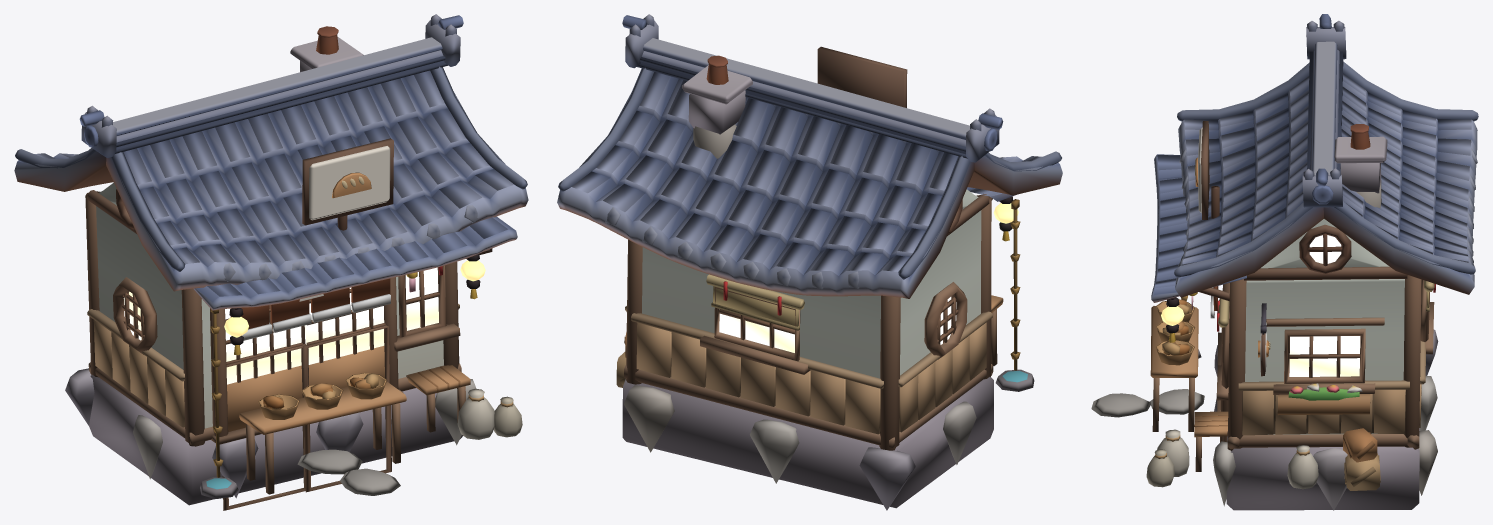
Rendered from shop-2-v4.glb.
3 views of the same model, side by side, from view 1: azimuth 30°, elevation 25°; view 2: azimuth 150°, elevation 25°; view 3: azimuth 270°, elevation 25° (orthographic). The views are drawn at different scales.
Parts seen in each view (by area): view 1: shop-2-v4, window_glow; view 2: shop-2-v4, window_glow; view 3: shop-2-v4, window_glow.
Part boxes in pixels (left/top/right/bottom): shop-2-v4: left=14, top=14, right=528, bottom=510; window_glow: left=123, top=260, right=485, bottom=384; shop-2-v4: left=557, top=14, right=1062, bottom=510; window_glow: left=719, top=203, right=1018, bottom=352; shop-2-v4: left=1091, top=14, right=1478, bottom=510; window_glow: left=1161, top=235, right=1360, bottom=376.
Bounding box in the file's own units: 3.47 × 3.41 × 3.28.
